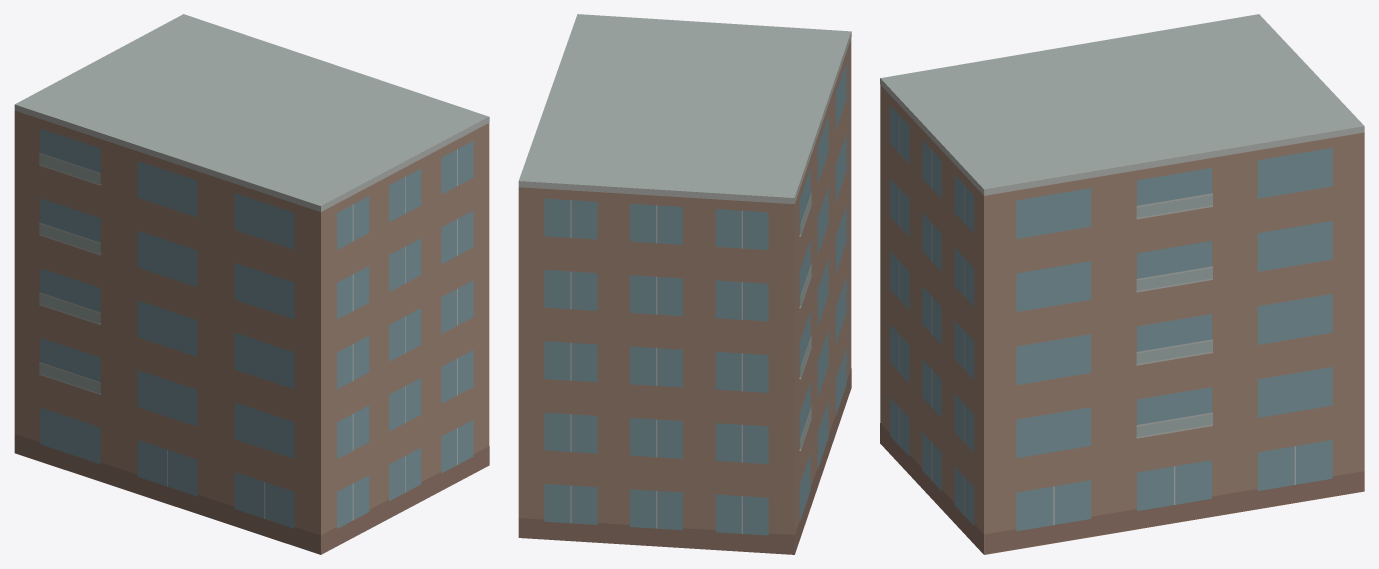
The model's file is survey-upis-32970180.glb.
3 views of the same model, side by side, from view 1: azimuth 30°, elevation 25°; view 2: azimuth 150°, elevation 25°; view 3: azimuth 270°, elevation 25° (orthographic). The views are drawn at different scales.
Visible parts, largest first — view 1: survey-upis-32970180.tmp; view 2: survey-upis-32970180.tmp; view 3: survey-upis-32970180.tmp.
Boxes of the visible parts, box(x1,y1,x2,y2) form: survey-upis-32970180.tmp: box(14, 14, 489, 554); survey-upis-32970180.tmp: box(518, 14, 851, 554); survey-upis-32970180.tmp: box(880, 14, 1364, 554).
Size of the model in its own units: 14.65 by 14.2 by 17.08.
